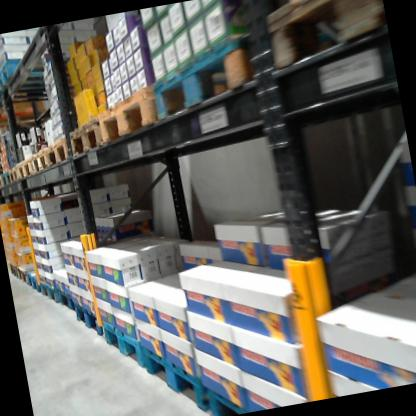pallet: (144, 17, 278, 117), (259, 0, 391, 77), (132, 333, 214, 416), (94, 77, 168, 148), (0, 49, 58, 98), (95, 312, 142, 371), (0, 67, 71, 106), (59, 111, 109, 161), (201, 381, 259, 416), (67, 294, 105, 345), (51, 279, 82, 316), (40, 131, 69, 170), (32, 275, 58, 311), (26, 141, 49, 176), (12, 154, 36, 186), (5, 158, 22, 196), (22, 265, 41, 294), (15, 266, 31, 286), (0, 169, 13, 192), (8, 261, 18, 281), (0, 170, 4, 192)
